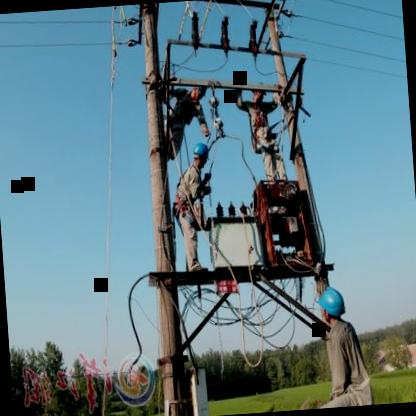helmet: (318, 286, 350, 327), (189, 140, 211, 168), (190, 82, 210, 102)
